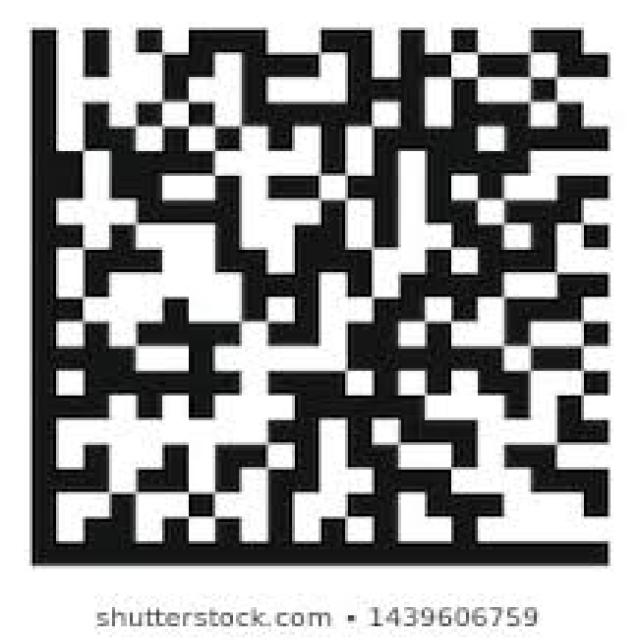datamatrix: (24, 19, 625, 580)
